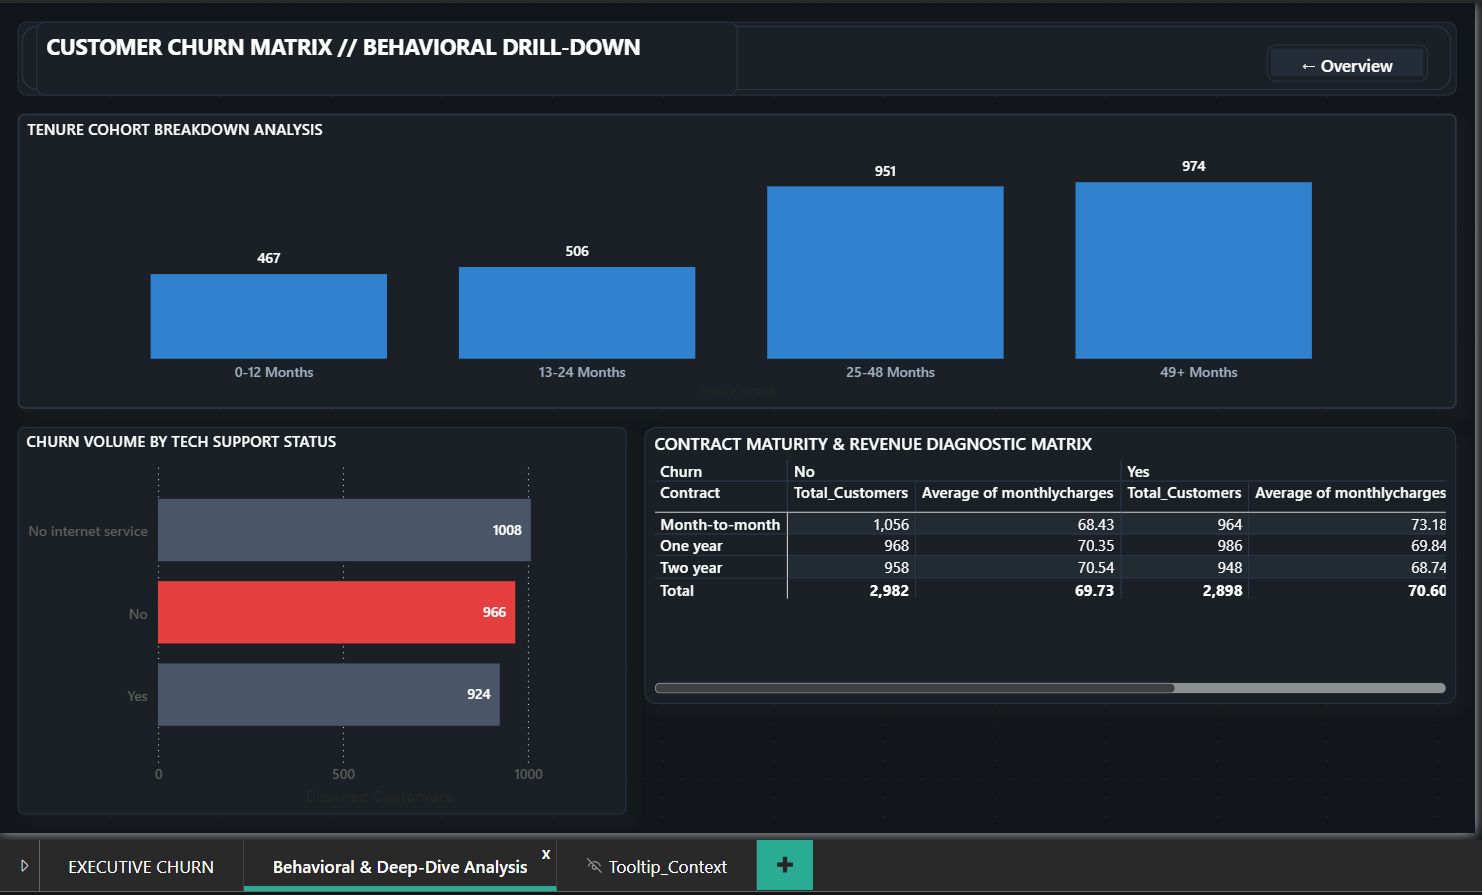

What the dashboard file says about the page in this screenshot:
{"tool":"powerbi","page":{"name":"Page 2","canvas":[1280,720],"ordinal":1},"visuals":[{"type":"columnChart","title":" Tenure Analysis","fields":{"Category":["public customer_churn.Tenure_Group"],"Y":["public customer_churn.Churned_customers"]},"box":[0,10.5,1263.3,235.6],"z":0},{"type":"scatterChart","title":" Contract Scatter Plot","fields":{"X":["Avg(public customer_churn.monthlycharges)"],"Y":["Avg(public customer_churn.tenure)"],"Series":["public customer_churn.churn"],"Category":["public customer_churn.contract"]},"box":[1.7,263.5,1279,228.6],"z":1000},{"type":"clusteredBarChart","title":" Tech Support Impact","fields":{"Category":["public customer_churn.techsupport"],"Y":["public customer_churn.Churned_customers"]},"box":[10.5,511.3,504.3,209.4],"z":2000},{"type":"pivotTable","title":"Contract Matrix","fields":{"Rows":["public customer_churn.contract"],"Columns":["public customer_churn.churn"],"Values":["public customer_churn.Total_customers"]},"box":[533.9,527,350.7,176.2],"z":3000}]}

Visuals, with their boxes on the page's 1280x720 design canvas (x1, y1, x2, y2). These are canvas units, not pixel positions in the 1482x895 screenshot, which may show the page scaled, cropped or inside an application window:
" Tenure Analysis" columnChart: crop(0, 10, 1263, 246)
" Contract Scatter Plot" scatterChart: crop(2, 264, 1281, 492)
" Tech Support Impact" clusteredBarChart: crop(10, 511, 515, 721)
"Contract Matrix" pivotTable: crop(534, 527, 885, 703)
